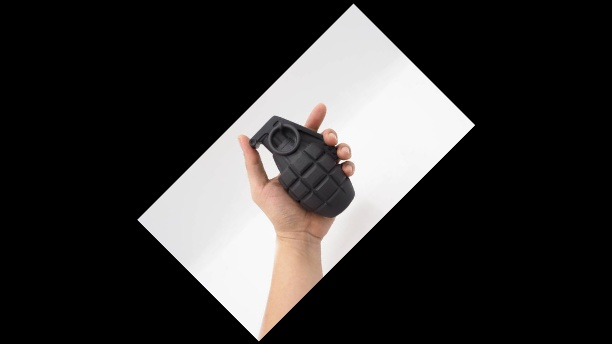e1: (248, 116, 357, 222)
